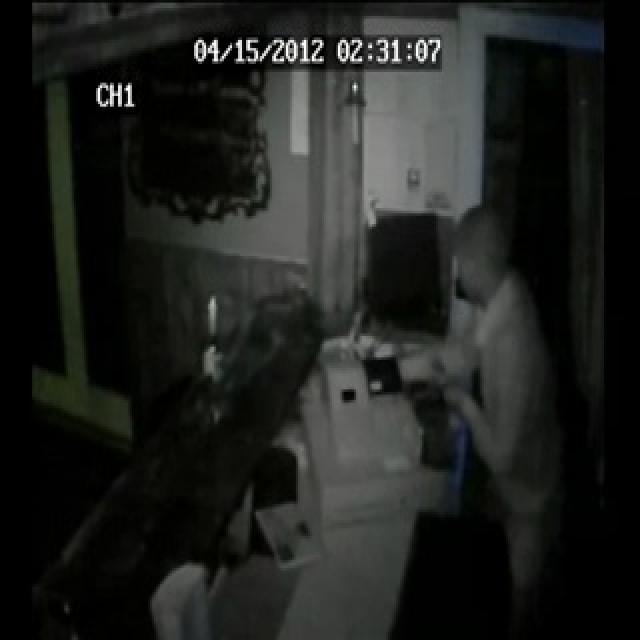thief: (426, 212, 527, 361)
